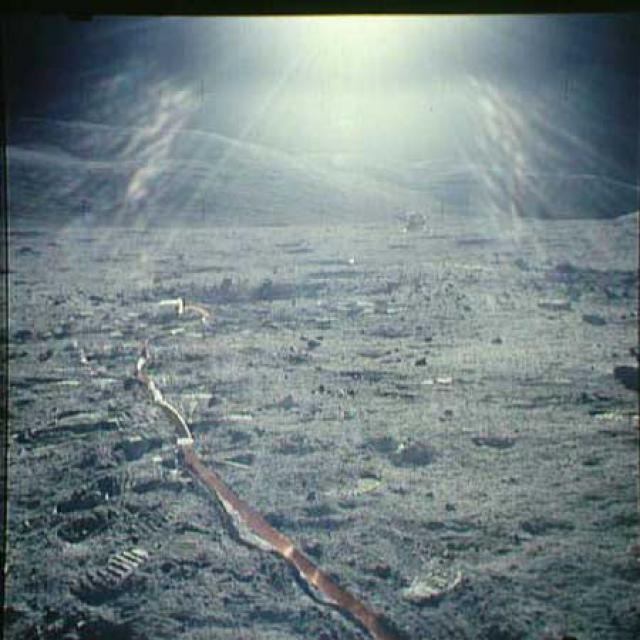artifact: (387, 196, 449, 250), (144, 290, 188, 320)
crater: (91, 262, 352, 308)
rock: (606, 350, 638, 397), (534, 290, 574, 319), (574, 309, 608, 330)
